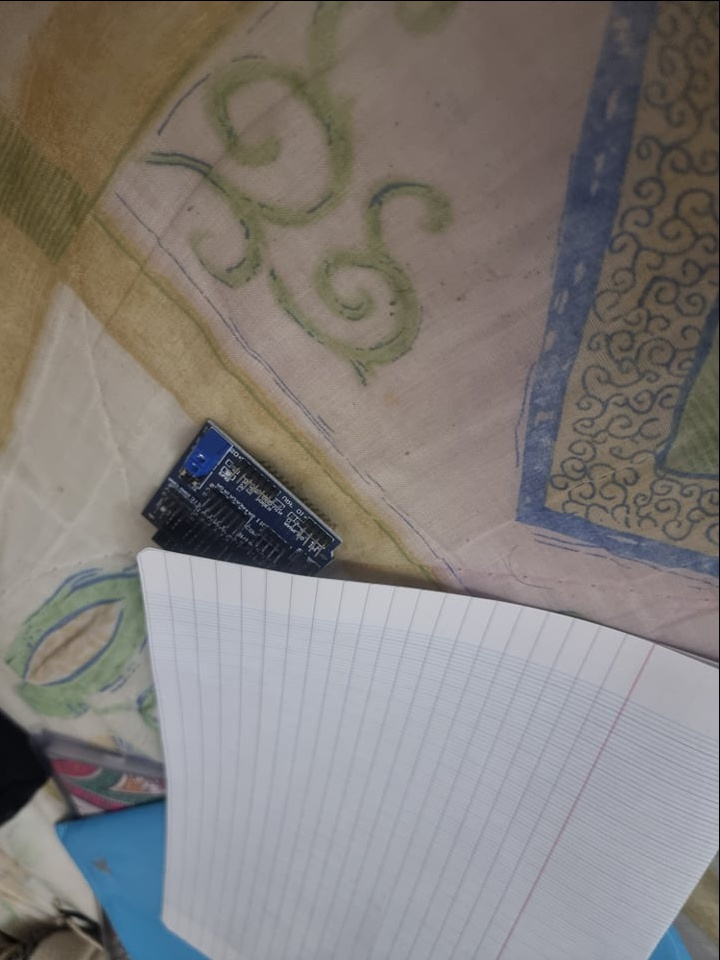5V EXPANSION: (143, 417, 342, 579)
